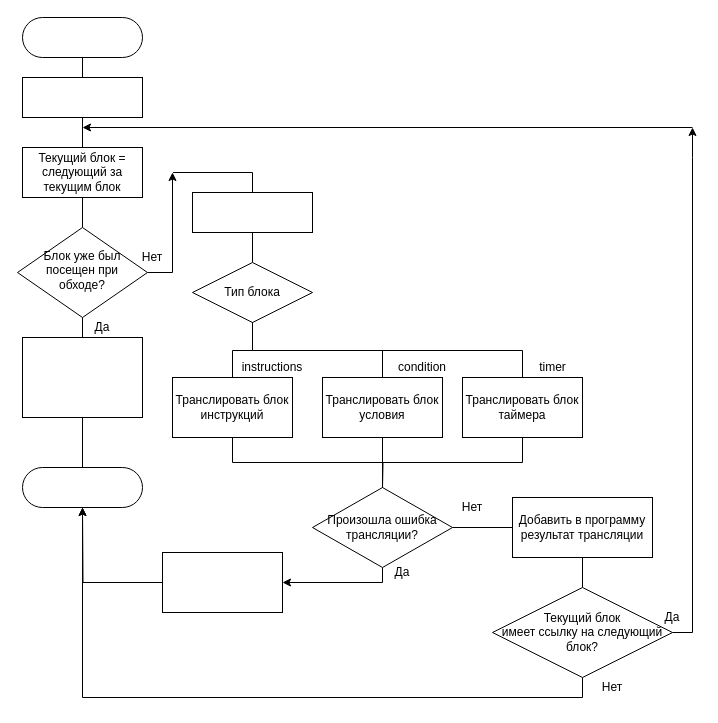
Some shapes in this 718 by 723 pixel diagram are drawn without their labels. Here are the shapes that lost their labels. From the top down, the centre of each, then its label:
At point 82,97: "Текущий блок = стартовый блок".
At point 252,212: "Пометить текущий блок посещенным".
At point 82,377: "Добавить в программу инструкцию jump перехода на текущий блок".
At point 222,582: "Сообщить об ошибке".
